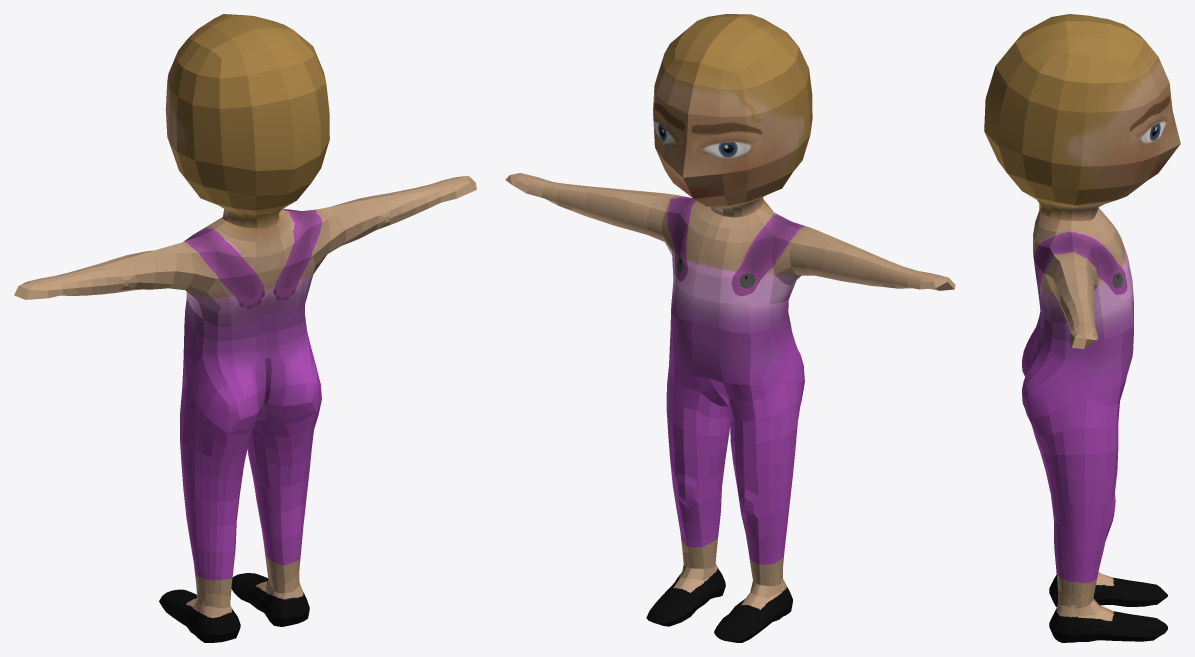
The model's file is PERSONAJE 3.fbx.
3 views of the same model, side by side, from view 1: azimuth 30°, elevation 25°; view 2: azimuth 150°, elevation 25°; view 3: azimuth 270°, elevation 25° (orthographic). The views are drawn at different scales.
Parts seen in each view (by area): view 1: Mono_base_con_uvs:polySurface7; view 2: Mono_base_con_uvs:polySurface7; view 3: Mono_base_con_uvs:polySurface7.
Part boxes in pixels (<box>): Mono_base_con_uvs:polySurface7: <box>14,14,476,642</box>; Mono_base_con_uvs:polySurface7: <box>505,14,955,642</box>; Mono_base_con_uvs:polySurface7: <box>984,14,1180,642</box>.
Bounding box in the file's own units: 3.57 × 4.45 × 1.32.
1 material, 1 textured.
